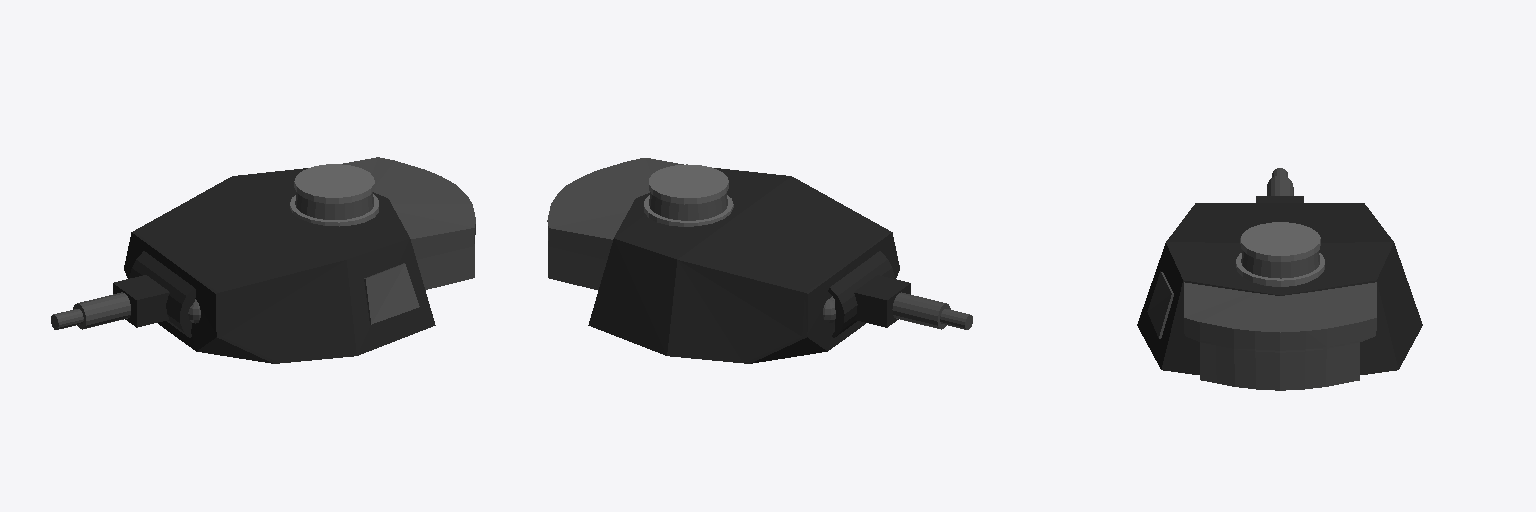
File: enemytankturrent00.obj
The picture shows the model from 3 angles: view 1: azimuth 30°, elevation 25°; view 2: azimuth 150°, elevation 25°; view 3: azimuth 270°, elevation 25°; orthographic projection.
Parts seen in each view (by area): view 1: Box034, Box035, Cylinder004, Box037, Cylinder006, Box036, Cylinder007, Cone001, Cylinder003; view 2: Box034, Box035, Cylinder004, Cylinder006, Box036, Cylinder007, Cone001, Cylinder003; view 3: Box034, Box035, Cylinder004, Cone001, Box037, Cylinder003.
Boxes of the visible parts, <box> form: Box034: <box>124,168,435,363</box>; Box035: <box>342,157,475,289</box>; Cylinder004: <box>294,164,374,203</box>; Box037: <box>364,263,419,324</box>; Cylinder006: <box>129,251,195,337</box>; Box036: <box>113,275,169,327</box>; Cylinder007: <box>73,292,130,329</box>; Cone001: <box>295,192,373,219</box>; Cylinder003: <box>290,194,378,226</box>; Box034: <box>588,168,899,363</box>; Box035: <box>547,158,683,289</box>; Cylinder004: <box>649,164,728,204</box>; Cylinder006: <box>828,251,894,337</box>; Box036: <box>854,275,910,327</box>; Cylinder007: <box>892,292,950,329</box>; Cone001: <box>649,192,727,220</box>; Cylinder003: <box>644,195,733,226</box>; Box034: <box>1137,203,1422,374</box>; Box035: <box>1184,282,1376,390</box>; Cylinder004: <box>1240,222,1320,261</box>; Cone001: <box>1241,251,1319,278</box>; Box037: <box>1147,271,1173,338</box>; Cylinder003: <box>1236,253,1324,286</box>.
Bounding box in the file's own units: 69.1 × 18.2 × 42.53.